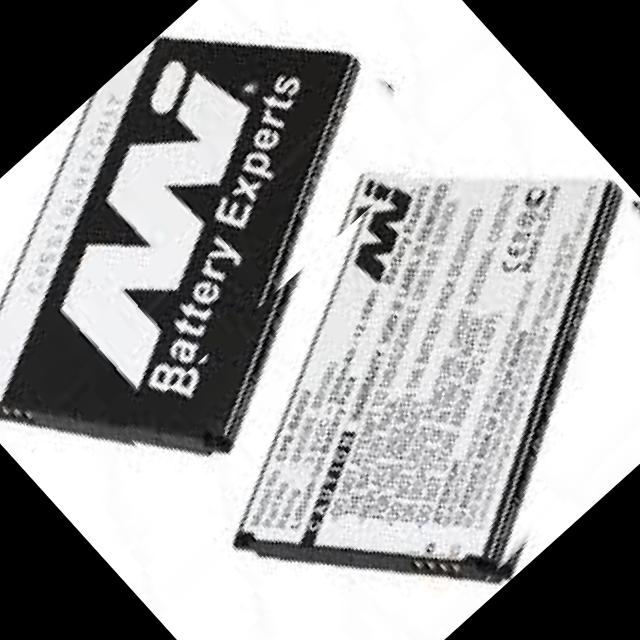Hazard: (233, 170, 616, 579), (0, 33, 368, 456)
